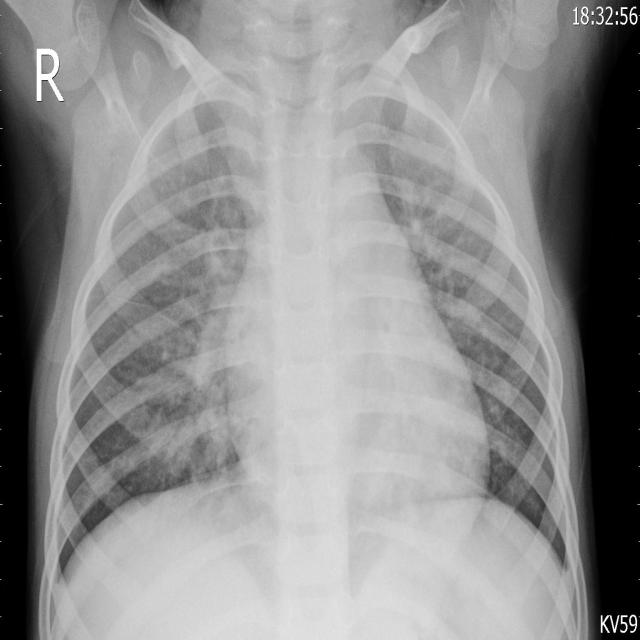low-pneumonia: (139, 224, 251, 476), (397, 117, 501, 326)
